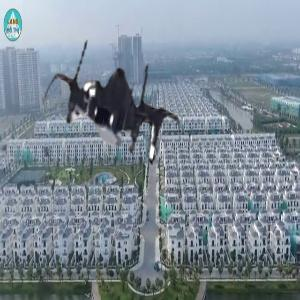drone: (38, 34, 192, 188)
